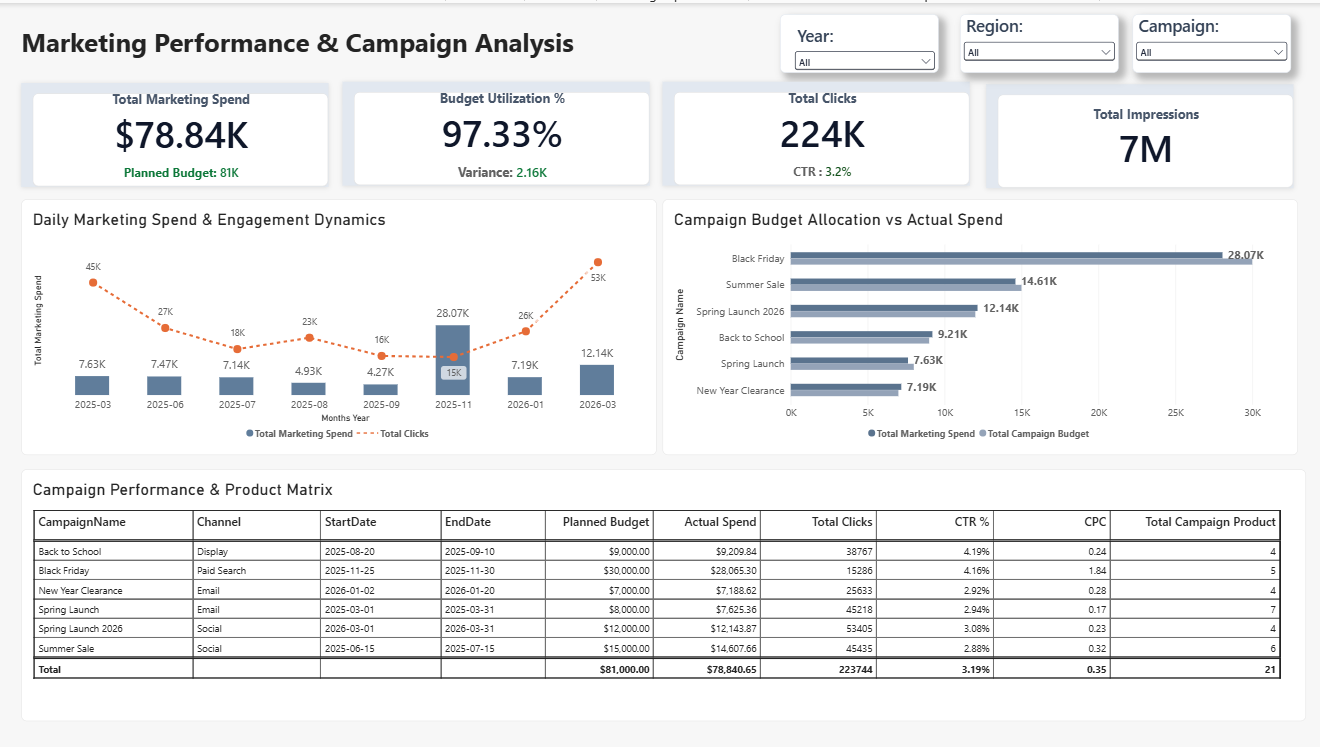

The page's visual inventory and layout, read from the dashboard file:
{"tool":"powerbi","page":{"name":"Marketing Performance & Engagement ","canvas":[1920,1080],"ordinal":2},"visuals":[{"type":"textbox","box":[30,30,823.8,83.8],"z":0},{"type":"slicer","title":"Year:","fields":{"Values":["dim_date.year"]},"box":[1130,16,229.6,85.2],"z":1000},{"type":"cardVisual","title":"Total Sales","fields":{"Data":["_measures.Total Marketing Spend"]},"box":[30,115,445,150],"z":2000},{"type":"cardVisual","title":"Total Sales","fields":{"Data":["_measures.Budget Utilization %"]},"box":[495.8,114,445,150],"z":3000},{"type":"cardVisual","title":"Total Sales","fields":{"Data":["_measures.Total Clicks"]},"box":[959.1,114,445,150],"z":4000},{"type":"cardVisual","title":"Total Sales","fields":{"Data":["_measures.Total Impressions"]},"box":[1427.8,117.6,445,150],"z":5000},{"type":"lineClusteredColumnComboChart","title":"Daily Marketing Spend & Engagement Dynamics","fields":{"Category":["dim_date.year_month"],"Y":["_measures.Total Marketing Spend"],"Y2":["_measures.Total Clicks"]},"box":[30,285,920,370],"z":6000},{"type":"clusteredBarChart","title":"Campaign Budget Allocation vs Actual Spend","fields":{"Category":["dim_campaign.CampaignName"],"Y":["_measures.Total Marketing Spend","_measures.Total Campaign Budget"]},"box":[959.1,284.1,920,370],"z":7000},{"type":"tableEx","title":"Campaign Performance & Product Matrix","fields":{"Values":["dim_campaign.CampaignName","dim_campaign.Channel","dim_campaign.StartDate","dim_campaign.EndDate","_measures.Total Campaign Budget","_measures.Total Marketing Spend","_measures.Total Clicks","_measures.CTR %","_measures.CPC","_measures.Campaign Product Count"]},"box":[30.8,675,1860,365],"z":8000},{"type":"slicer","fields":{"Values":["dim_customer.region"]},"box":[1390,16.7,229.6,85.2],"z":9000},{"type":"slicer","fields":{"Values":["dim_campaign.CampaignName"]},"box":[1640,16,229.6,85.2],"z":10000}]}

Visuals, with their boxes in screenshot pixels (x1, y1, x2, y2), scaled from the page's 1920x1080 canvas onto the 1320x747 screenshot:
textbox: BBox(21, 21, 587, 79)
"Year:" slicer: BBox(777, 11, 935, 70)
"Total Sales" cardVisual: BBox(21, 80, 327, 183)
"Total Sales" cardVisual: BBox(341, 79, 647, 183)
"Total Sales" cardVisual: BBox(659, 79, 965, 183)
"Total Sales" cardVisual: BBox(982, 81, 1288, 185)
"Daily Marketing Spend & Engagement Dynamics" lineClusteredColumnComboChart: BBox(21, 197, 653, 453)
"Campaign Budget Allocation vs Actual Spend" clusteredBarChart: BBox(659, 197, 1292, 452)
"Campaign Performance & Product Matrix" tableEx: BBox(21, 467, 1300, 719)
slicer - dim_customer.region: BBox(956, 12, 1113, 70)
slicer - dim_campaign.CampaignName: BBox(1128, 11, 1285, 70)
